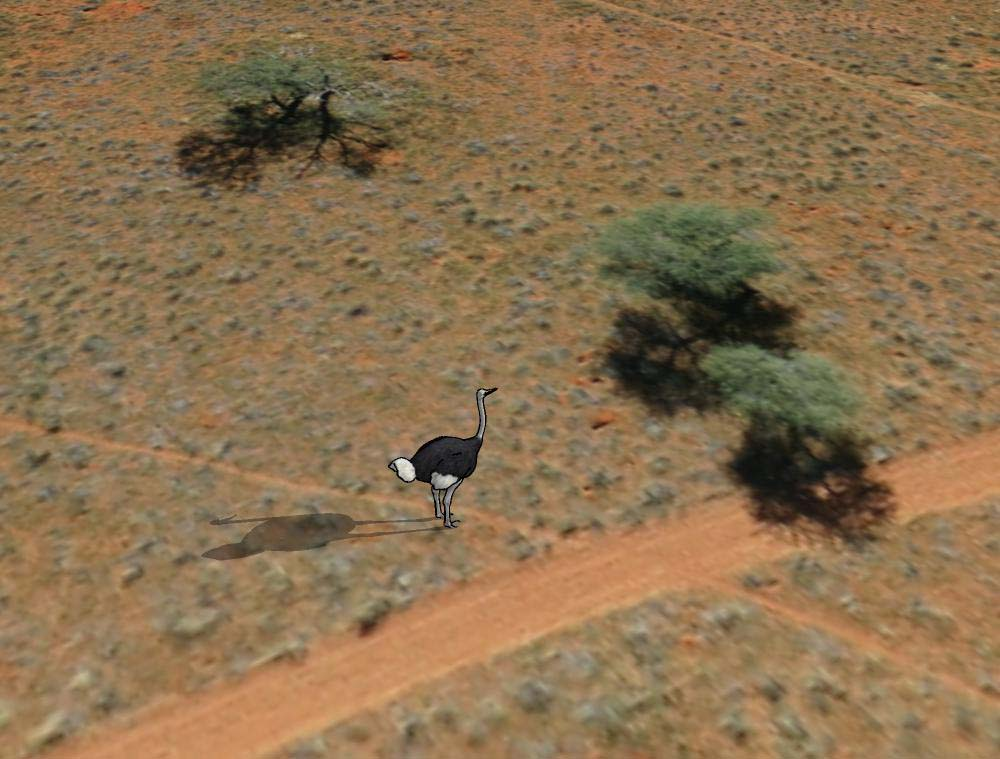ostrich: (382, 385, 508, 533)
